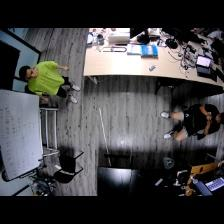normal: (18, 62, 79, 103), (161, 106, 224, 143)
